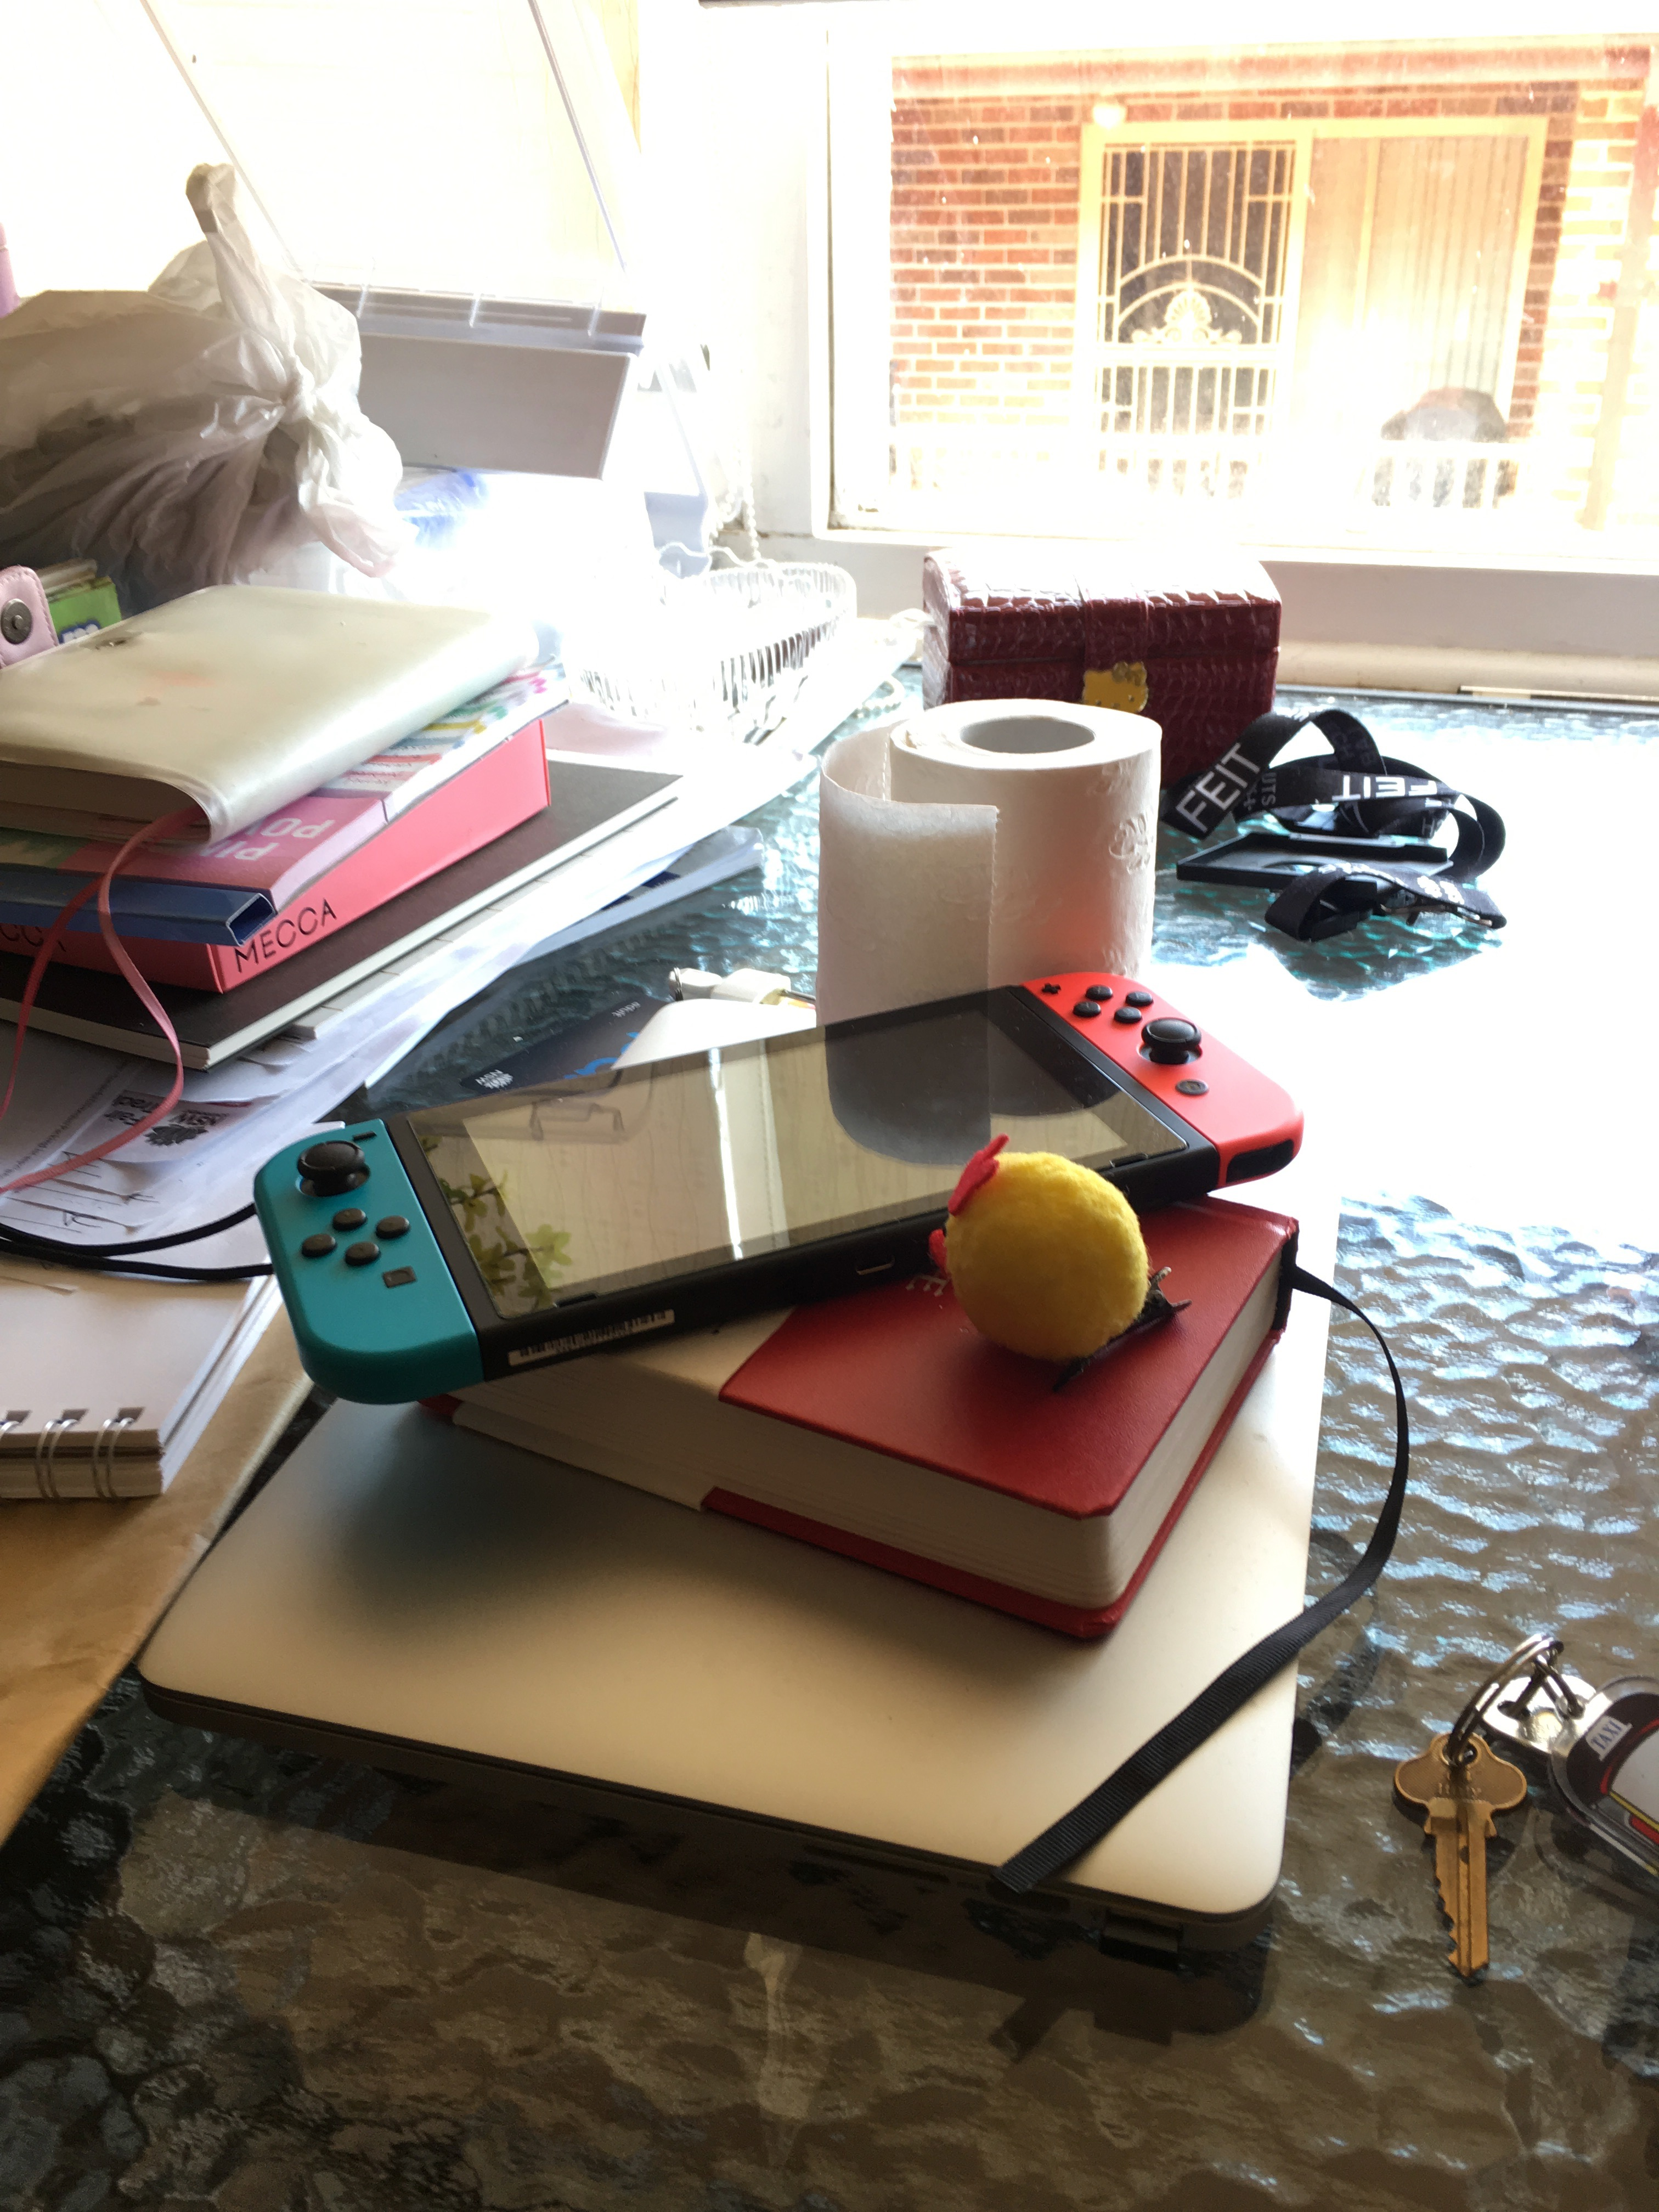NintendoSwitch: (247, 961, 1310, 1407)
